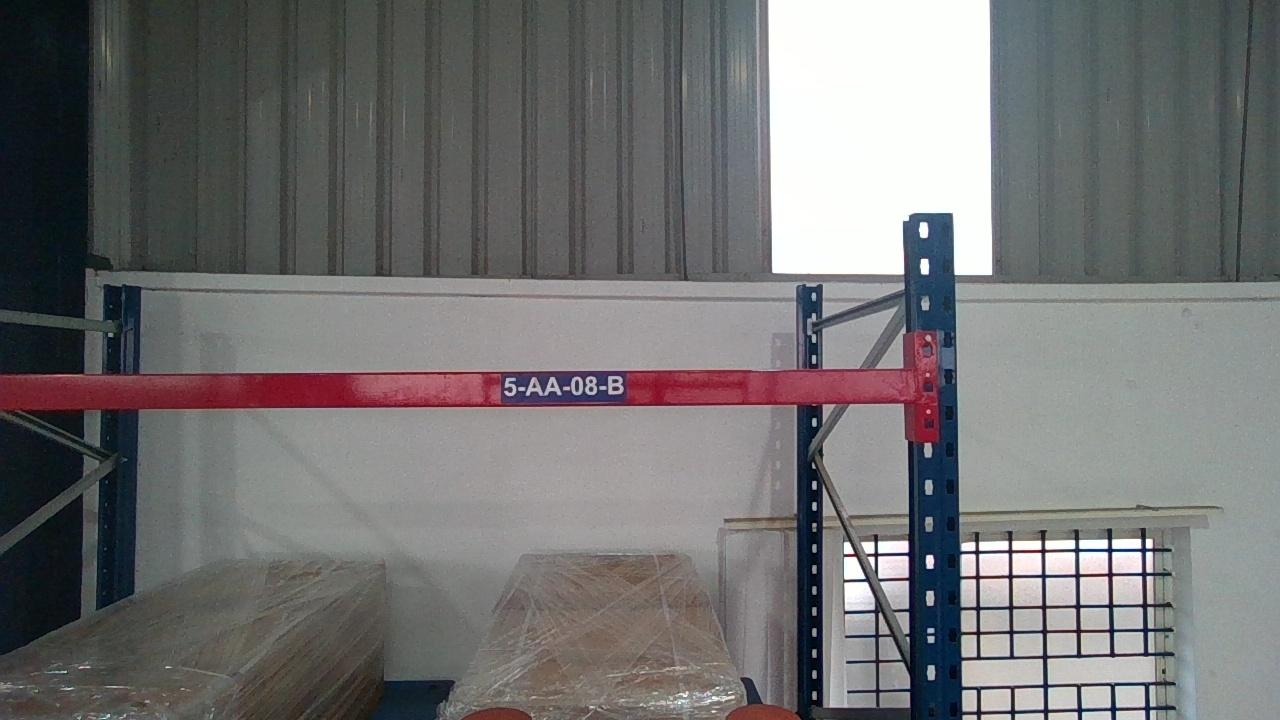h_rack: (0, 370, 917, 410)
